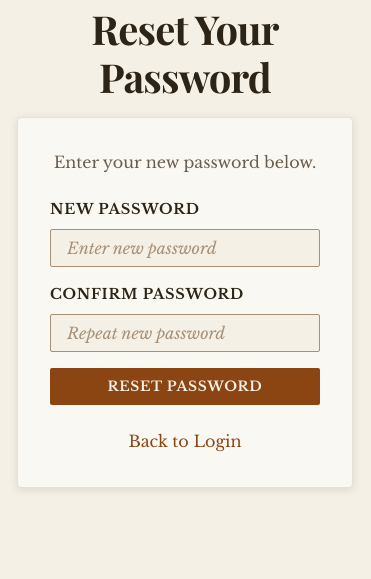
Test: PasswordResetConfirm › form validation › should show error when passwords do not match
Type "validpassword123" into the password field labelled "New Password" at coordinates (185, 248), box [50,229,320,267]
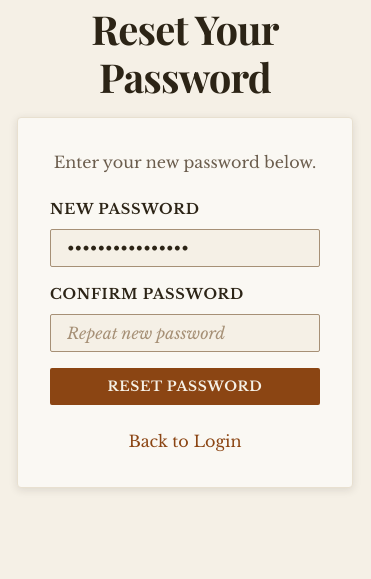
Type "differentpassword" into the password field labelled "Confirm Password" at coordinates (185, 333), box [50,314,320,352]
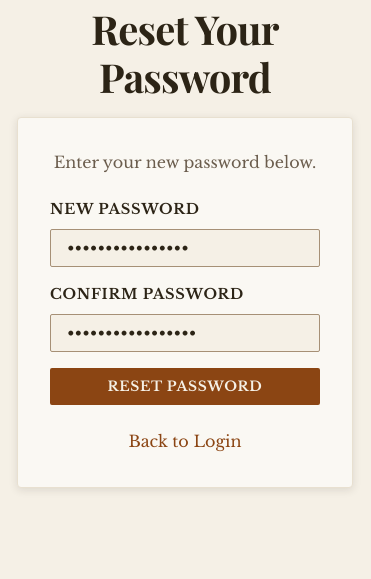
Submit the form, box [50,198,320,405]
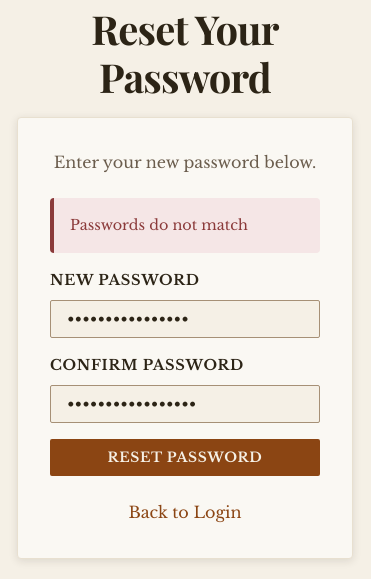
Now the text "Passwords do not match" is shown, box [50,198,320,253]
